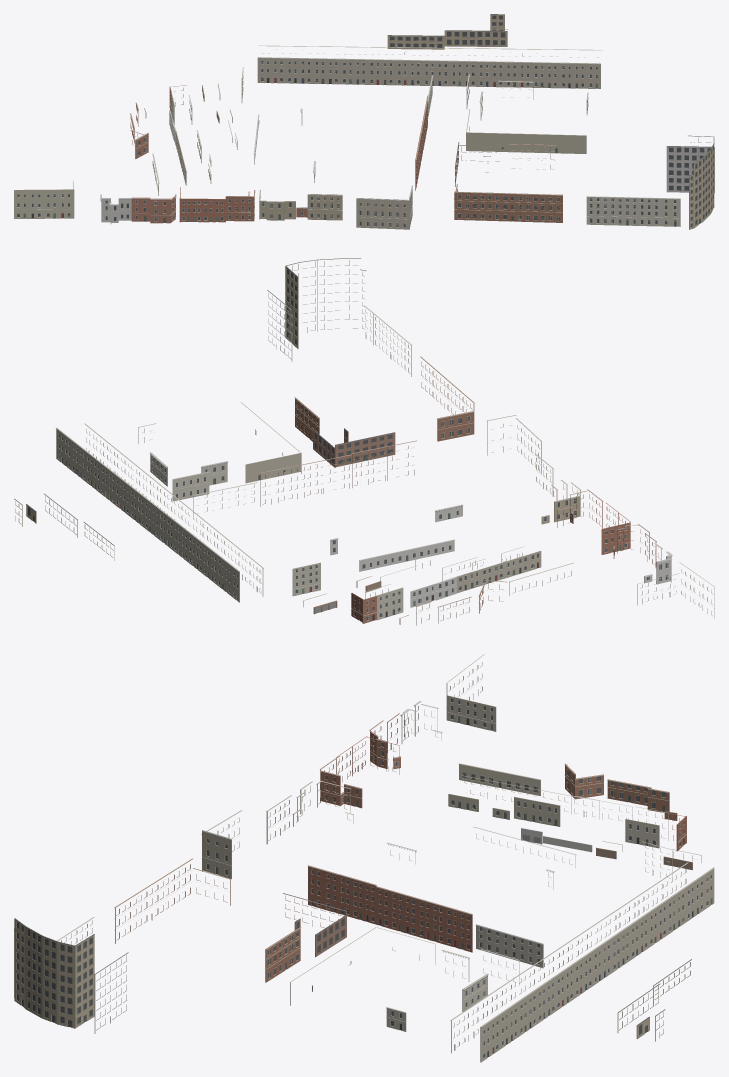
3 renders of one model, top to bottom at view 1: azimuth 30°, elevation 25°; view 2: azimuth 150°, elevation 25°; view 3: azimuth 270°, elevation 25°, orthographic. The views are drawn at different scales.
Parts seen in each view (by area): view 1: f:way/171285869, f:way/47379890, f:way/137012438, f:way/47379891, f:way/171285876, f:way/171421246, f:way/170821102, f:way/992027356, f:way/992027357, f:way/171421257, f:way/172008808, f:way/172008806 (+6 smaller); view 2: f:way/171285869, f:way/47379890, f:way/166261404, f:way/172005207, f:way/170821095, f:way/992027356, f:way/171465037, f:way/47379891, f:way/172008808, f:way/172005209, f:way/171285871, f:way/732942945 (+3 smaller); view 3: f:way/171285869, f:way/992027356, f:way/172005209, f:relation/2279494, f:way/47379890, f:way/171465037, f:way/165371399, f:way/171421246, f:way/170821092, f:way/170821102, f:way/171421252, f:way/166261404 (+5 smaller).
Part boxes in pixels (<box>): f:way/171285869: <box>257,45,602,88</box>; f:way/47379890: <box>454,144,562,222</box>; f:way/137012438: <box>586,196,680,226</box>; f:way/47379891: <box>466,109,586,153</box>; f:way/171285876: <box>387,14,507,49</box>; f:way/171421246: <box>14,181,74,218</box>; f:way/170821102: <box>356,185,412,229</box>; f:way/992027356: <box>688,135,714,229</box>; f:way/992027357: <box>666,146,714,193</box>; f:way/171421257: <box>131,194,176,223</box>; f:way/172008808: <box>179,187,225,222</box>; f:way/172008806: <box>307,194,342,220</box>; f:way/171285869: <box>56,423,263,602</box>; f:way/47379890: <box>294,356,474,441</box>; f:way/166261404: <box>313,428,395,467</box>; f:way/172005207: <box>149,452,227,501</box>; f:way/170821095: <box>330,504,463,571</box>; f:way/992027356: <box>285,258,366,348</box>; f:way/171465037: <box>442,546,541,593</box>; f:way/47379891: <box>240,402,301,483</box>; f:way/172008808: <box>601,503,630,554</box>; f:way/172005209: <box>260,440,416,506</box>; f:way/171285871: <box>292,562,320,596</box>; f:way/732942945: <box>365,584,403,620</box>; f:way/171285869: <box>450,862,714,1062</box>; f:way/992027356: <box>14,918,94,1028</box>; f:way/172005209: <box>308,865,472,952</box>; f:relation/2279494: <box>564,763,677,820</box>; f:way/47379890: <box>114,858,301,982</box>; f:way/171465037: <box>448,775,571,826</box>; f:way/165371399: <box>475,924,543,968</box>; f:way/171421246: <box>446,654,496,731</box>; f:way/170821092: <box>459,763,540,795</box>; f:way/170821102: <box>201,810,242,878</box>; f:way/171421252: <box>320,756,362,808</box>; f:way/166261404: <box>282,893,346,957</box>.
Size of the model in its own units: 264 by 30.47 by 212.
